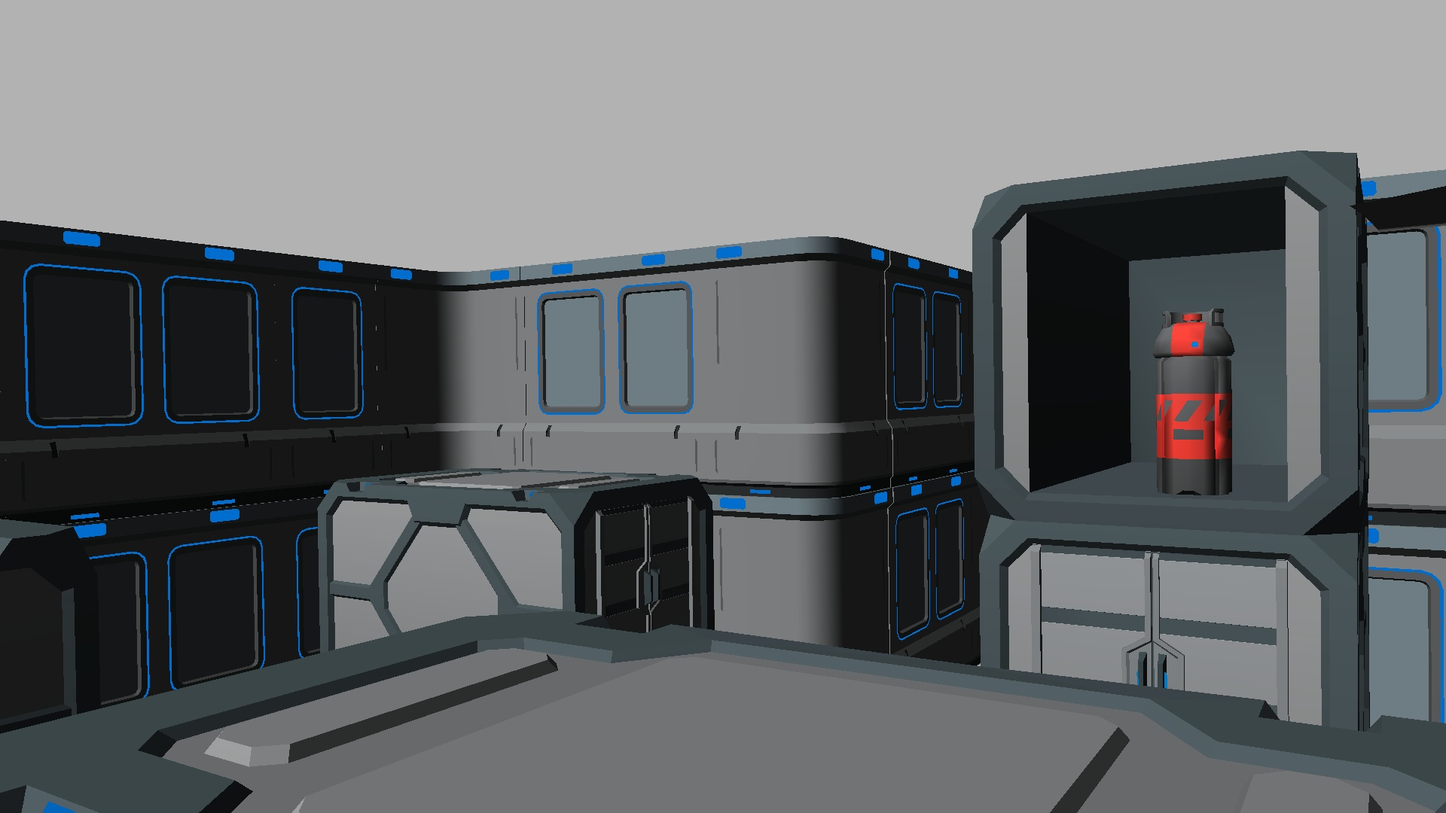red barrel: (1153, 308, 1235, 496)
